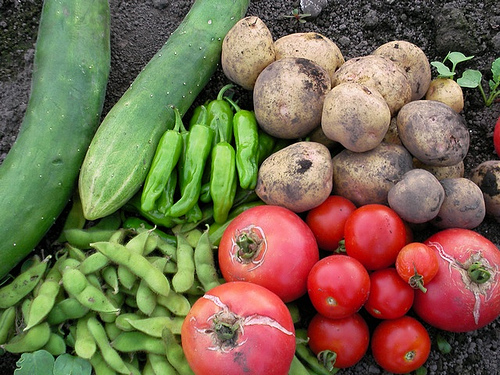cucumber: (78, 1, 250, 224), (0, 0, 108, 263)
